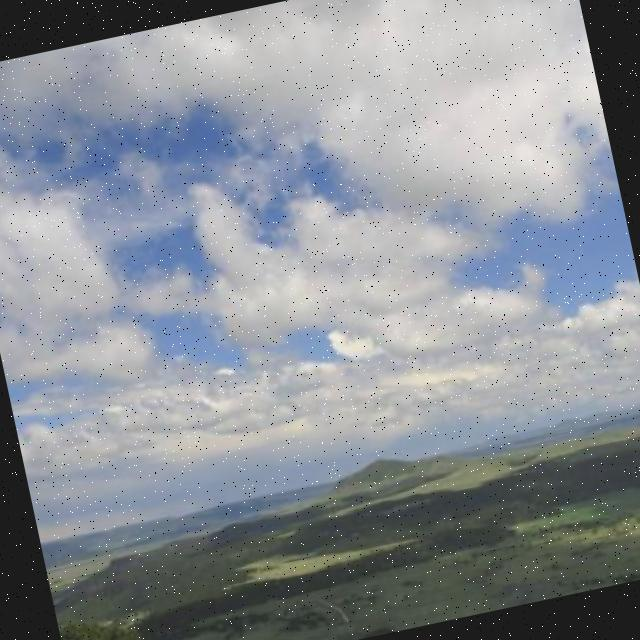Ci: (1, 1, 640, 521)
